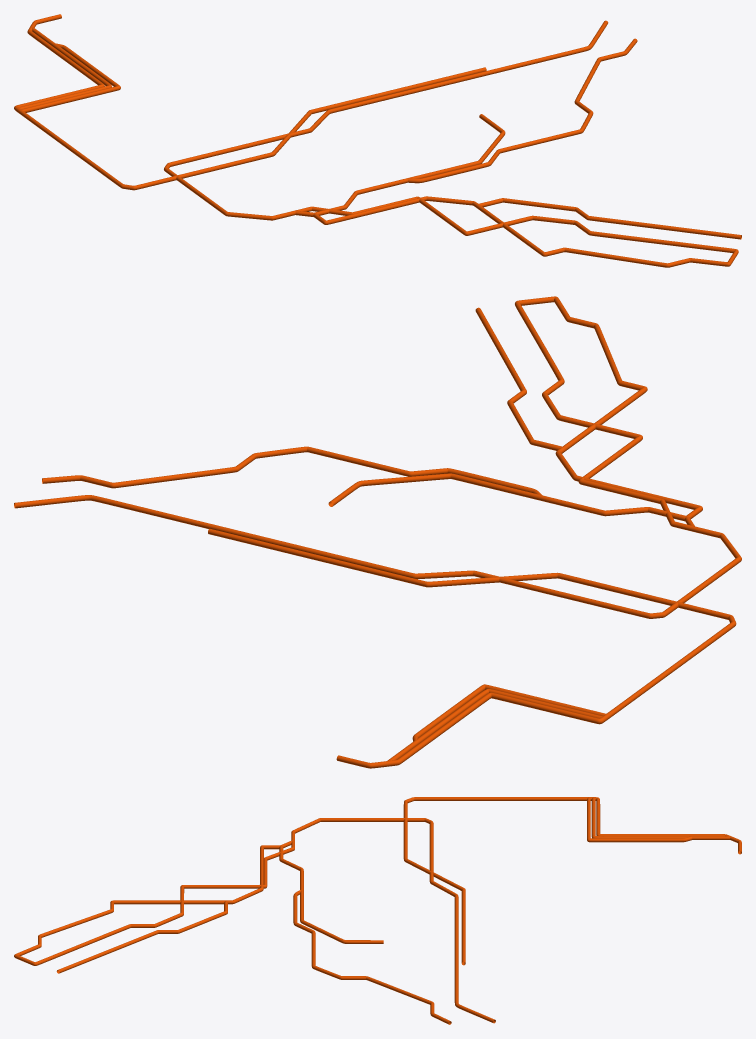
File: NYC subway.fbx
The picture shows the model from 3 angles, top to bottom: view 1: azimuth 30°, elevation 25°; view 2: azimuth 150°, elevation 25°; view 3: azimuth 270°, elevation 25°; orthographic projection. The views are drawn at different scales.
Visible parts, largest first — view 1: NurbsPath.003; view 2: NurbsPath.003; view 3: NurbsPath.003.
Boxes of the visible parts, x1,y1,x2,y2 form: NurbsPath.003: (14, 14, 741, 267); NurbsPath.003: (14, 296, 741, 768); NurbsPath.003: (14, 797, 741, 1024).
Size of the model in its own units: 4094 by 30.01 by 5589.
